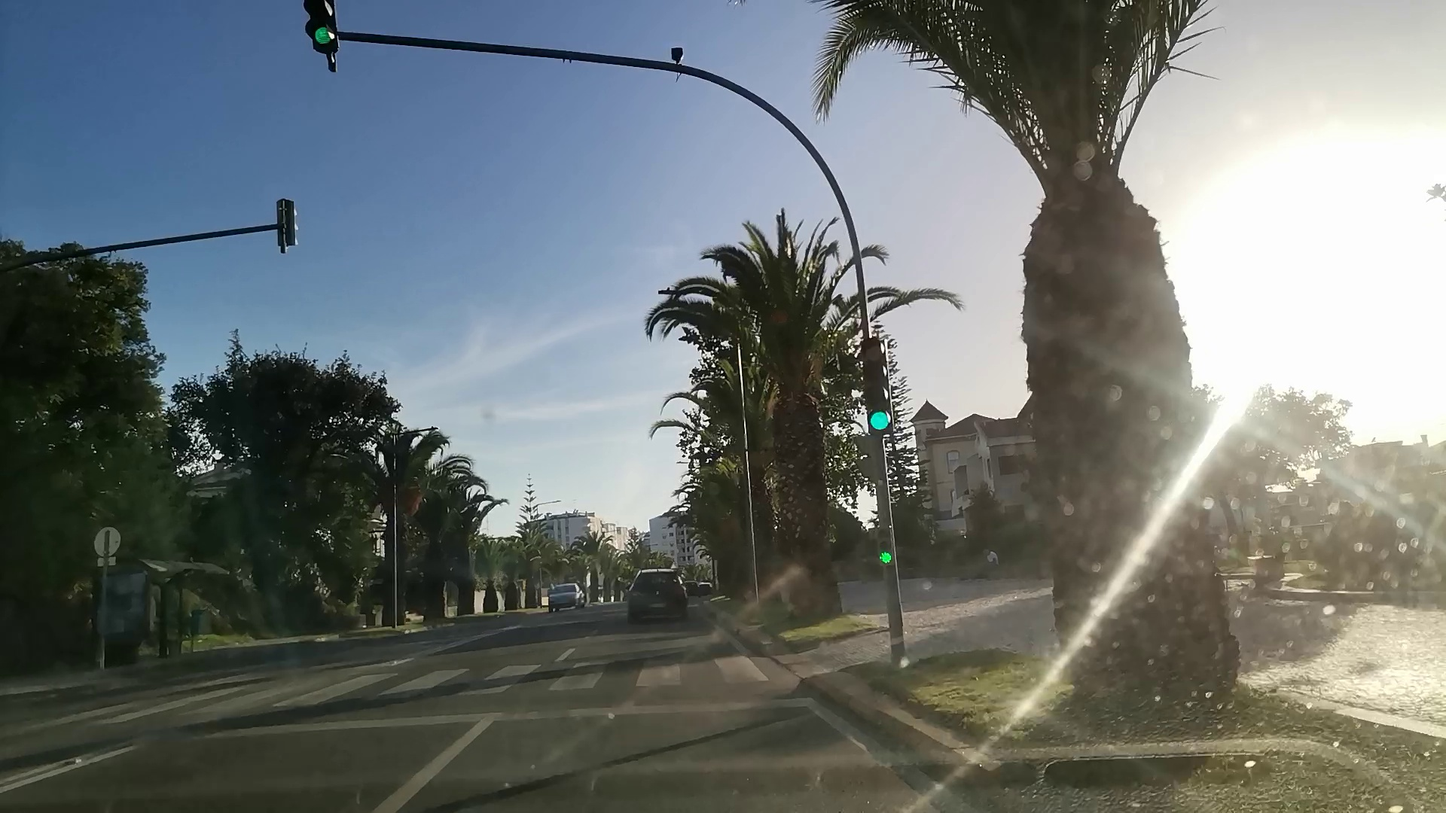Stairs: (0, 657, 776, 719)
